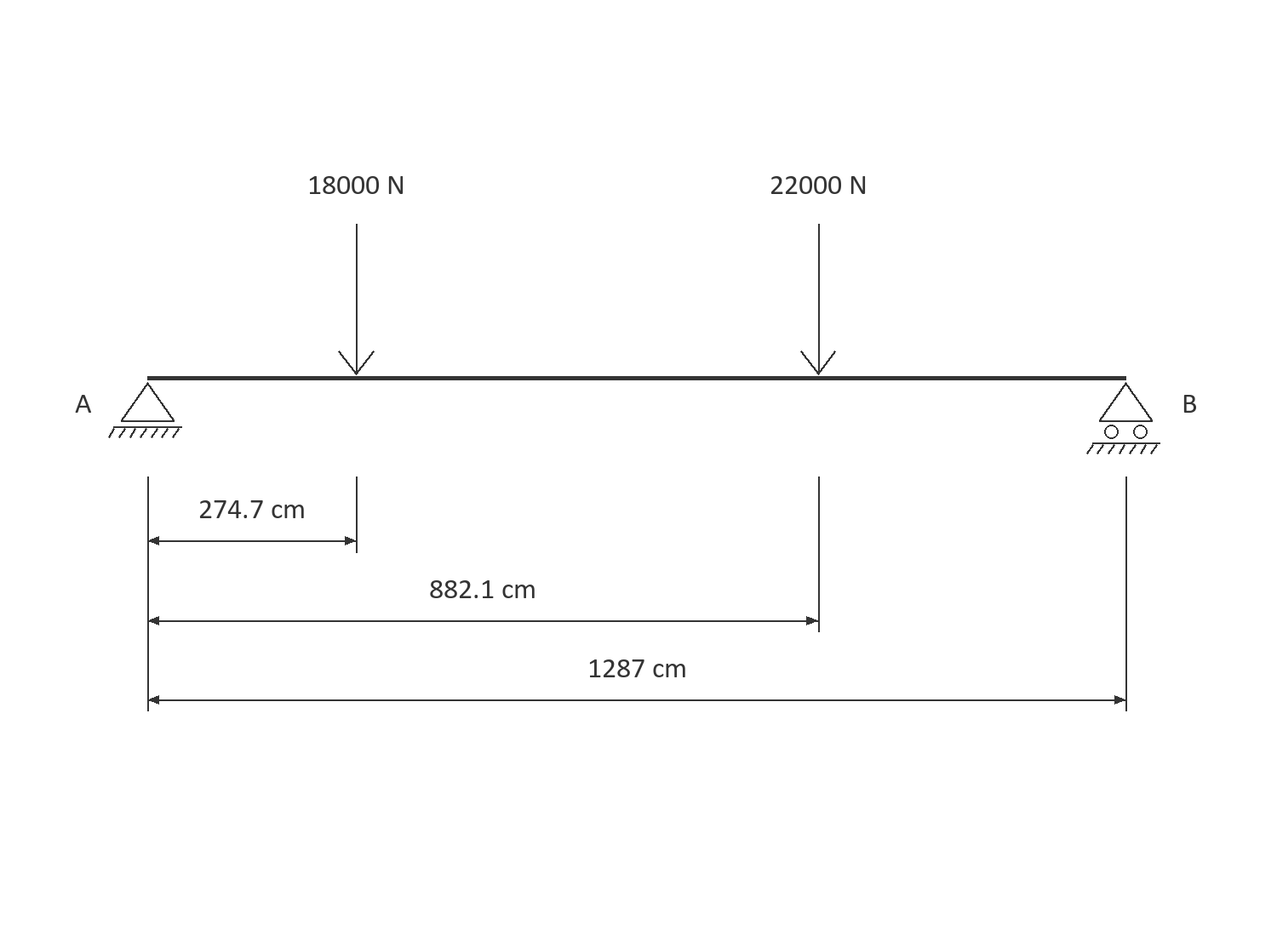pin_support: (108, 382, 182, 438)
point_load: (338, 224, 375, 375), (800, 224, 836, 375)
roller_support: (1086, 382, 1160, 454)
